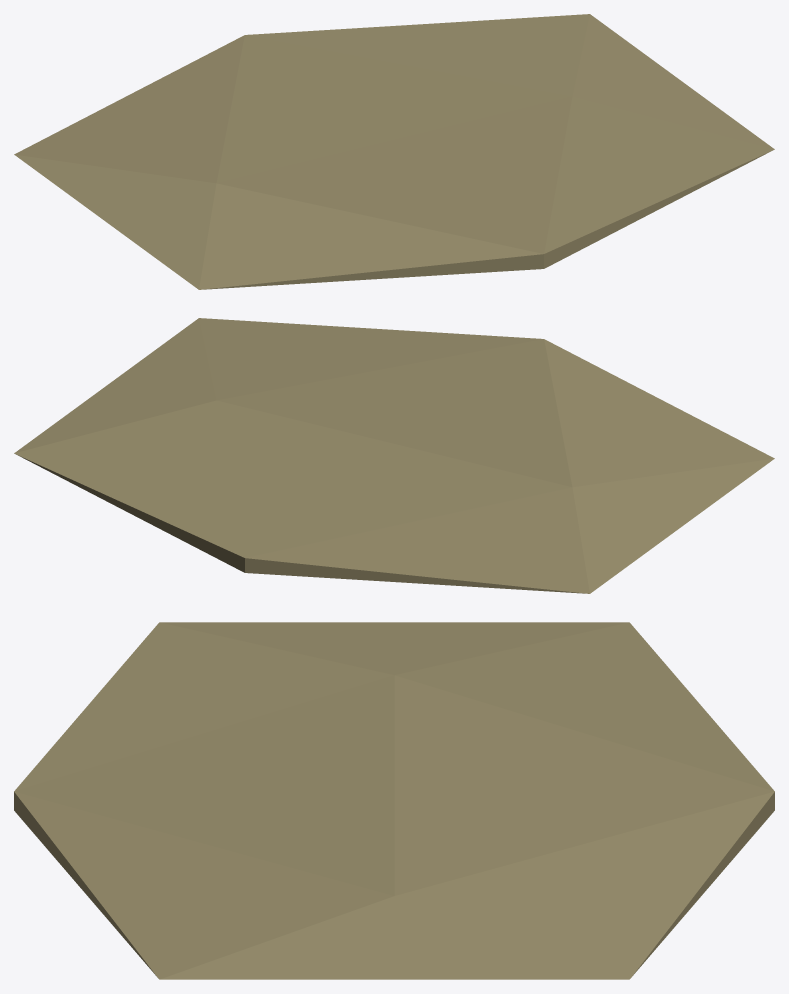
Rendered from sandy_ground-far.glb.
The picture shows the model from 3 angles, top to bottom: view 1: azimuth 30°, elevation 25°; view 2: azimuth 150°, elevation 25°; view 3: azimuth 270°, elevation 25°; orthographic projection. The views are drawn at different scales.
Parts seen in each view (by area): view 1: world-scenery/sandy_ground-far; view 2: world-scenery/sandy_ground-far; view 3: world-scenery/sandy_ground-far.
Boxes of the visible parts, x1,y1,x2,y2 form: world-scenery/sandy_ground-far: [14, 14, 774, 289]; world-scenery/sandy_ground-far: [14, 318, 774, 593]; world-scenery/sandy_ground-far: [14, 622, 774, 979].
Bounding box in the file's own units: 5.1 × 0.2042 × 4.59.
